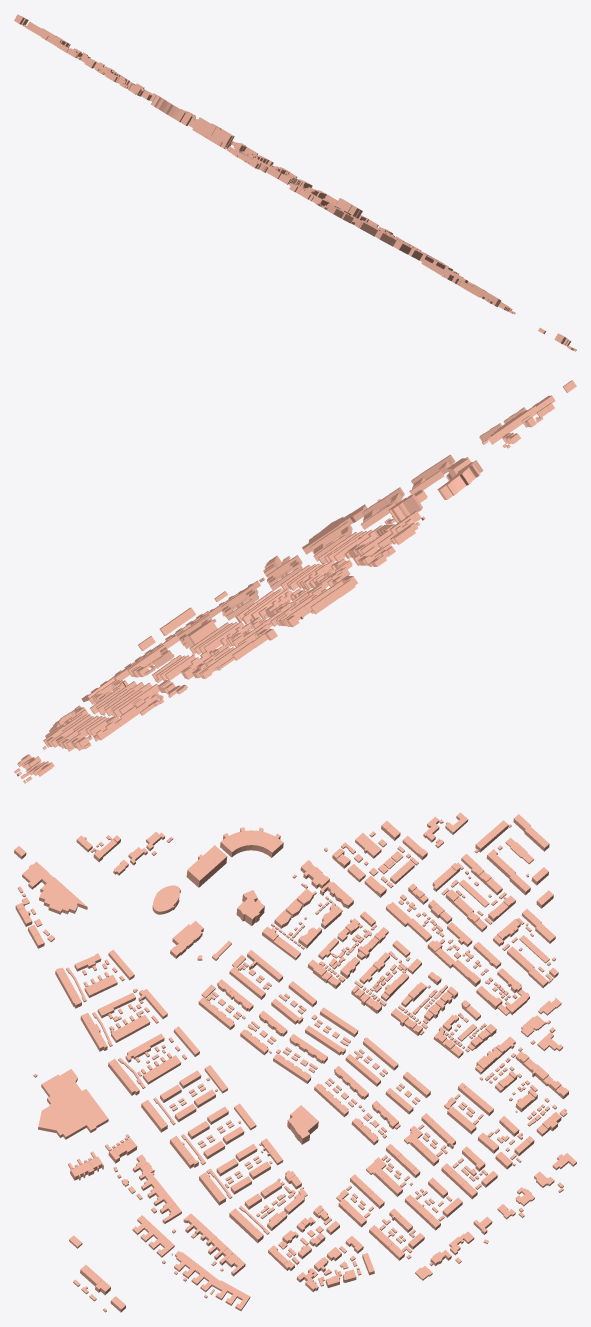
3 renders of one model, top to bottom at view 1: azimuth 30°, elevation 25°; view 2: azimuth 150°, elevation 25°; view 3: azimuth 270°, elevation 25°, orthographic. The views are drawn at different scales.
Size of the model in its own units: 520 by 386 by 634.
